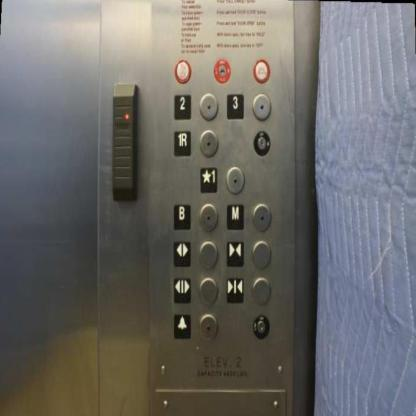1R: (174, 130, 192, 156)
2: (173, 93, 192, 120)
3: (225, 92, 245, 120)
B: (173, 202, 192, 231)
M: (226, 203, 245, 231)
alarm: (173, 312, 192, 340)
close: (225, 275, 245, 304), (226, 240, 244, 268)
hat: (253, 58, 270, 84)
indicator: (198, 276, 219, 306), (251, 240, 272, 269), (198, 312, 218, 342), (252, 202, 272, 232), (252, 276, 272, 306), (199, 202, 218, 233), (199, 240, 218, 271), (198, 92, 219, 120), (226, 165, 246, 194), (199, 128, 218, 158), (252, 92, 271, 121)
keyhole: (252, 129, 271, 157), (212, 57, 231, 84), (252, 314, 270, 342)
open: (172, 276, 192, 305), (172, 240, 192, 268)
s1: (199, 166, 219, 194)
unknown: (173, 58, 192, 84)
